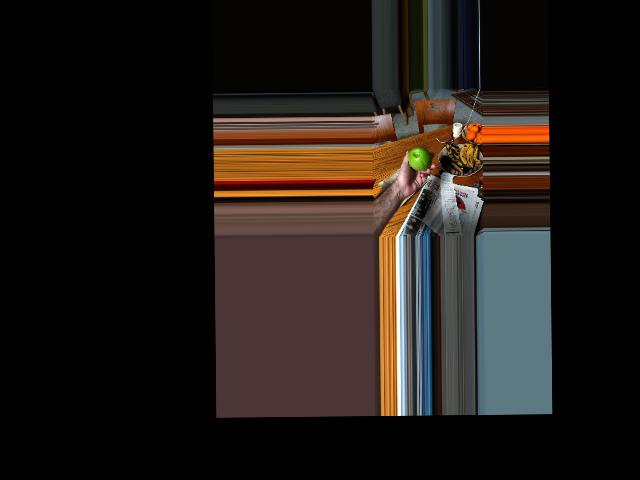apple: (406, 146, 431, 170)
